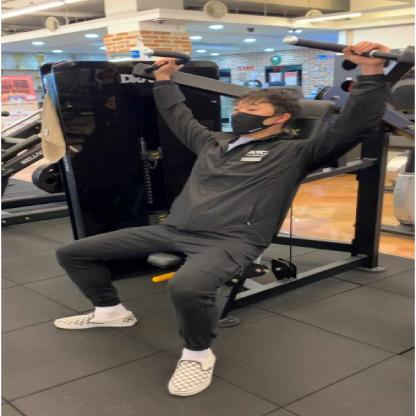shoulder press machine: (29, 28, 416, 399)
